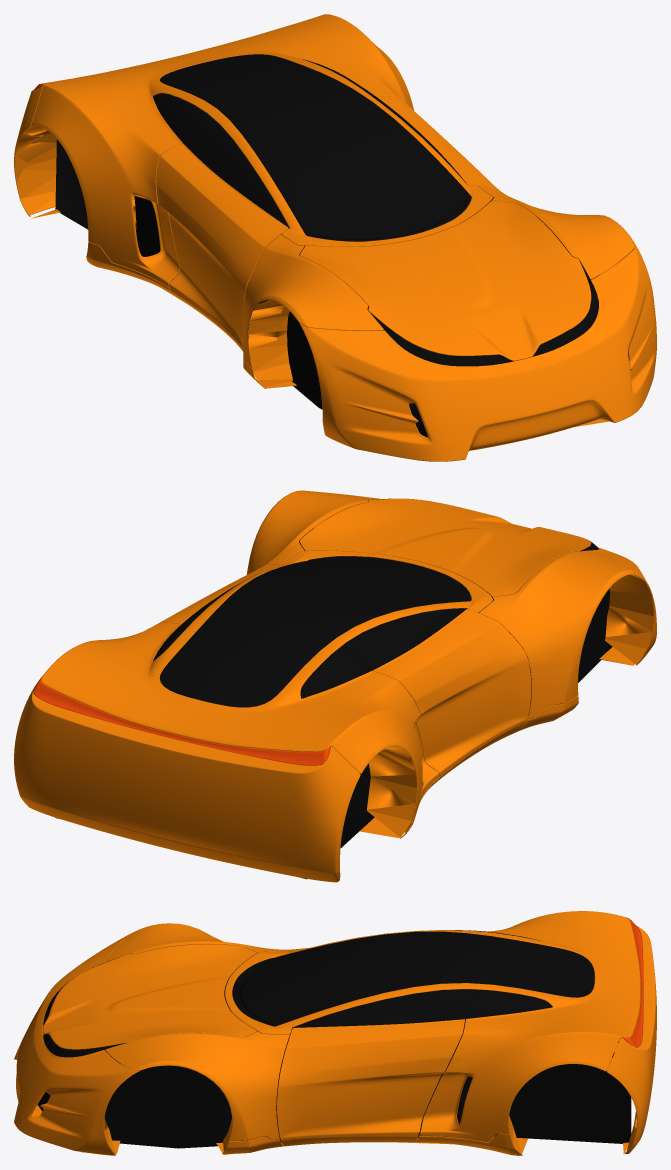
File: Car Body.fbx
3 renders of one model, top to bottom at view 1: azimuth 30°, elevation 25°; view 2: azimuth 150°, elevation 25°; view 3: azimuth 270°, elevation 25°, orthographic. The views are drawn at different scales.
Visible parts, largest first — view 1: Cube.066; view 2: Cube.066; view 3: Cube.066.
Boxes of the visible parts, left/top/right/bottom form: Cube.066: left=14, top=14, right=656, bottom=461; Cube.066: left=14, top=490, right=656, bottom=882; Cube.066: left=14, top=911, right=656, bottom=1155.
Size of the model in its own units: 207 by 95.91 by 398.
